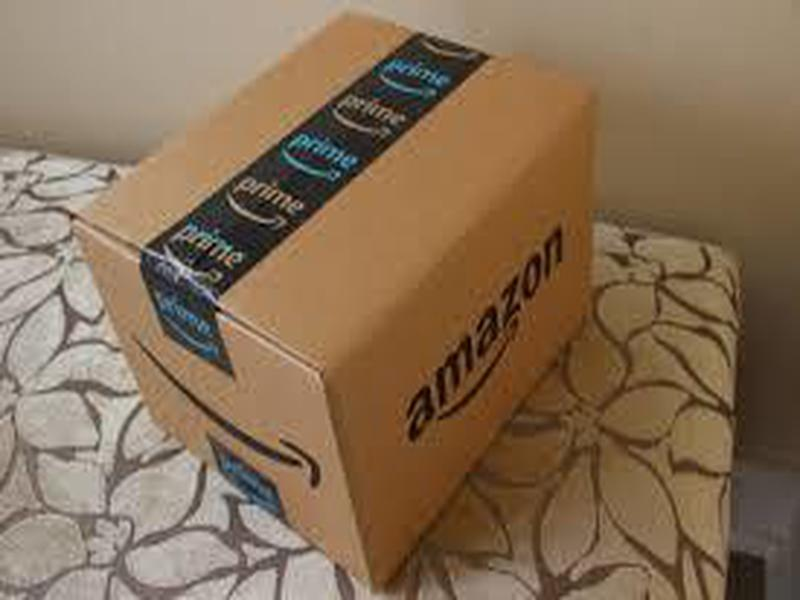package: (53, 22, 612, 586)
